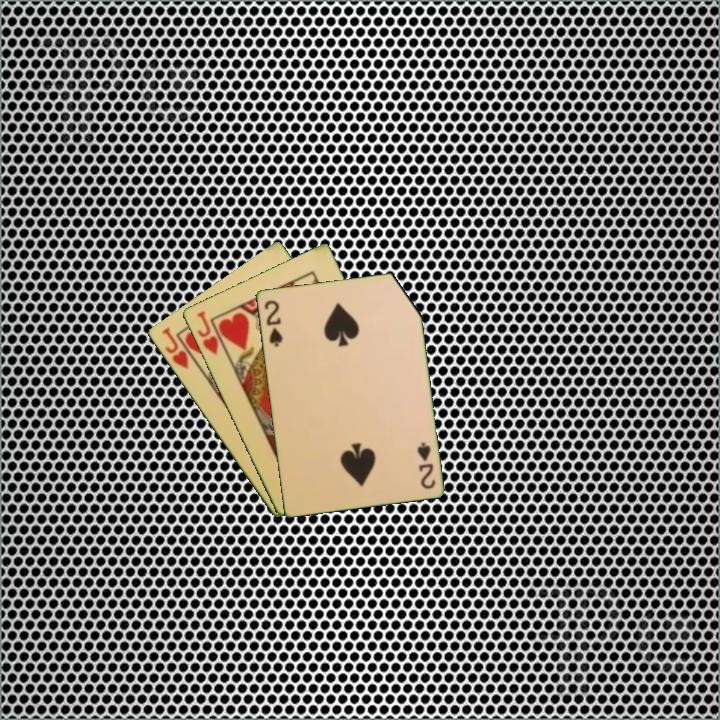2s: (413, 438, 438, 492), (260, 296, 285, 349)
Jh: (158, 324, 191, 372), (193, 307, 221, 358)
